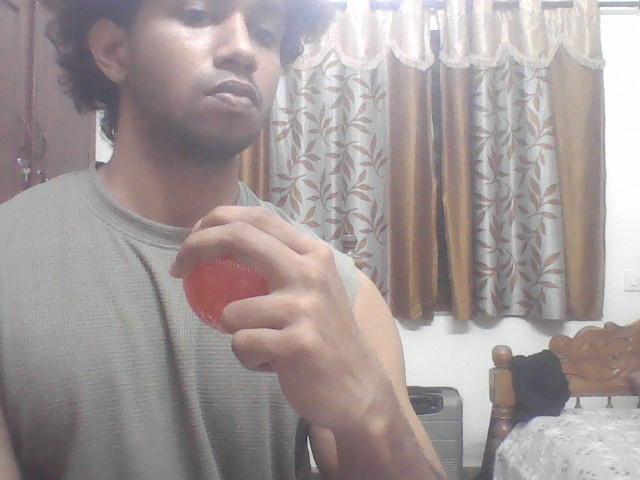cricket_ball: (178, 243, 277, 334)
